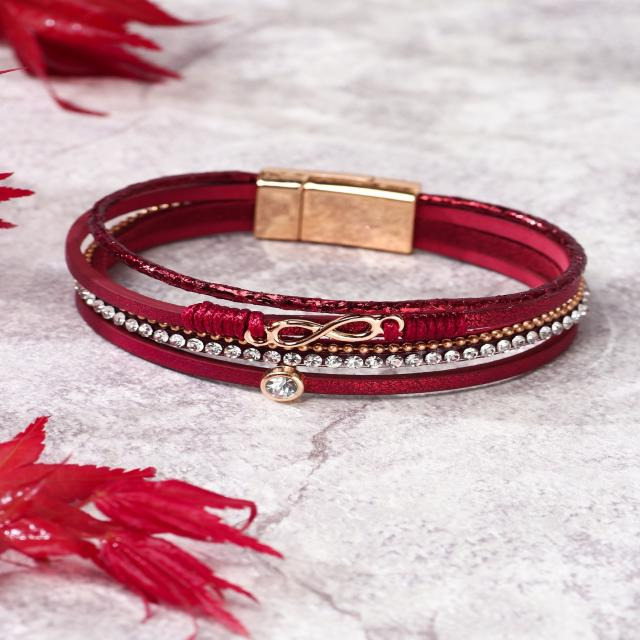bracelet: (19, 107, 640, 559)
